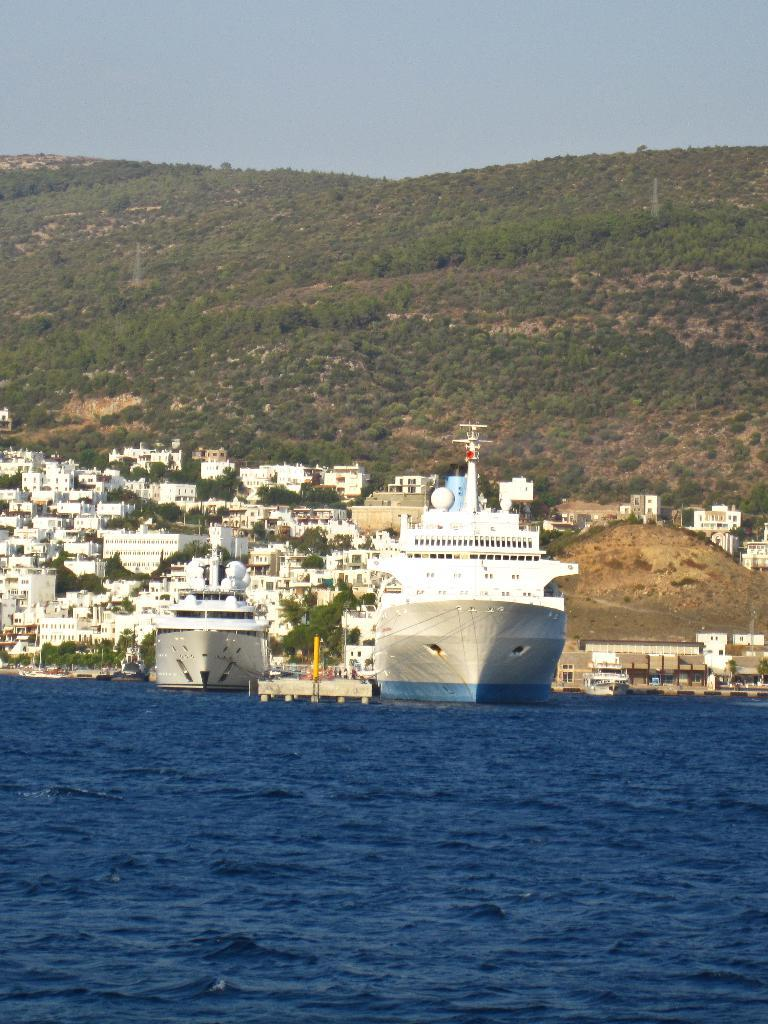PassengerShip: (360, 408, 580, 710), (145, 523, 279, 703), (581, 648, 633, 702)
